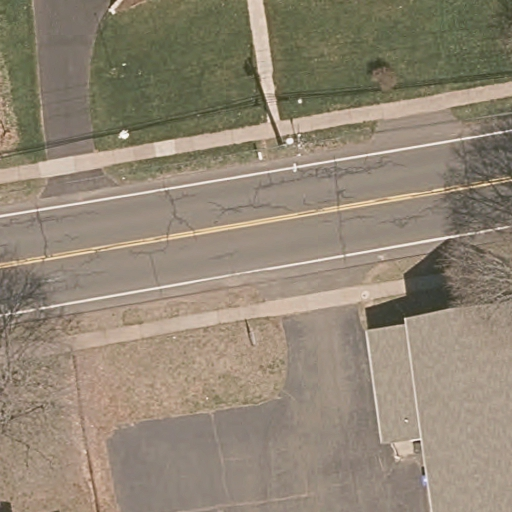DT: (255, 117, 306, 161)
